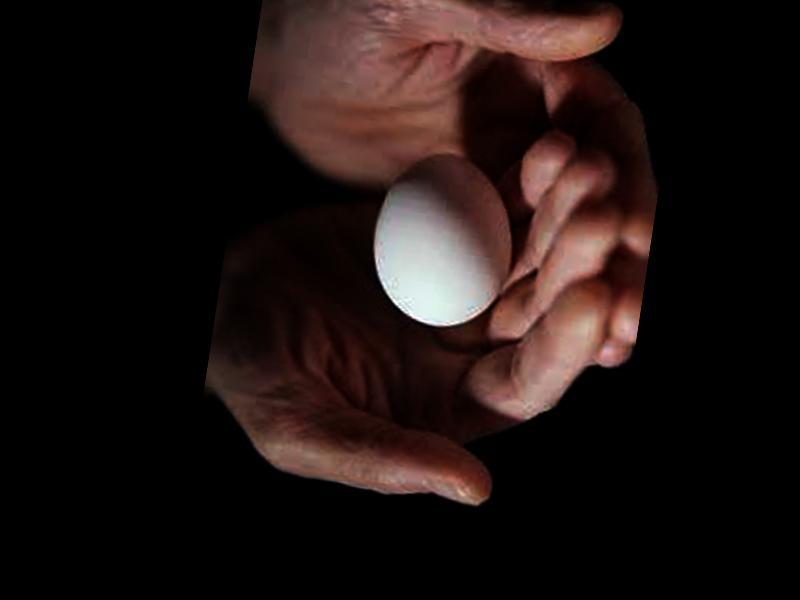Eggs: (360, 146, 523, 336)
